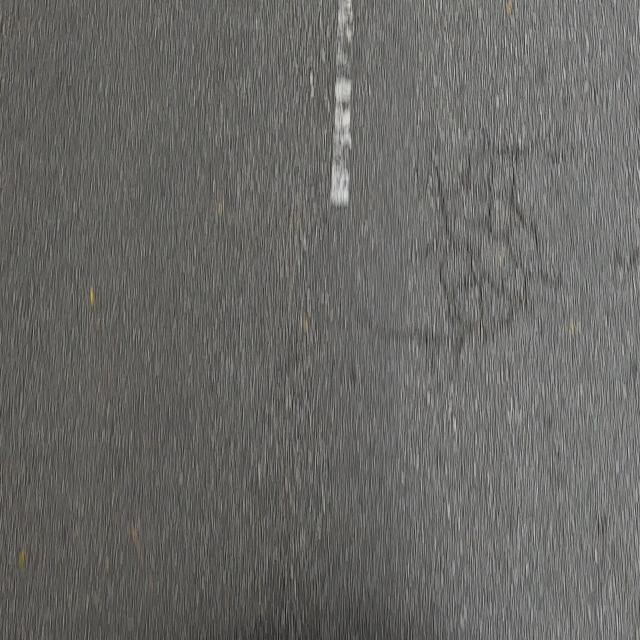Retak-Buaya: (424, 129, 560, 348)
